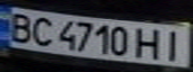0: (109, 24, 133, 57)
1: (90, 21, 112, 55)
4: (54, 17, 78, 51)
7: (72, 19, 93, 53)
B: (3, 10, 36, 43)
C: (27, 15, 57, 47)
H: (133, 25, 166, 61)
I: (157, 27, 190, 61)
